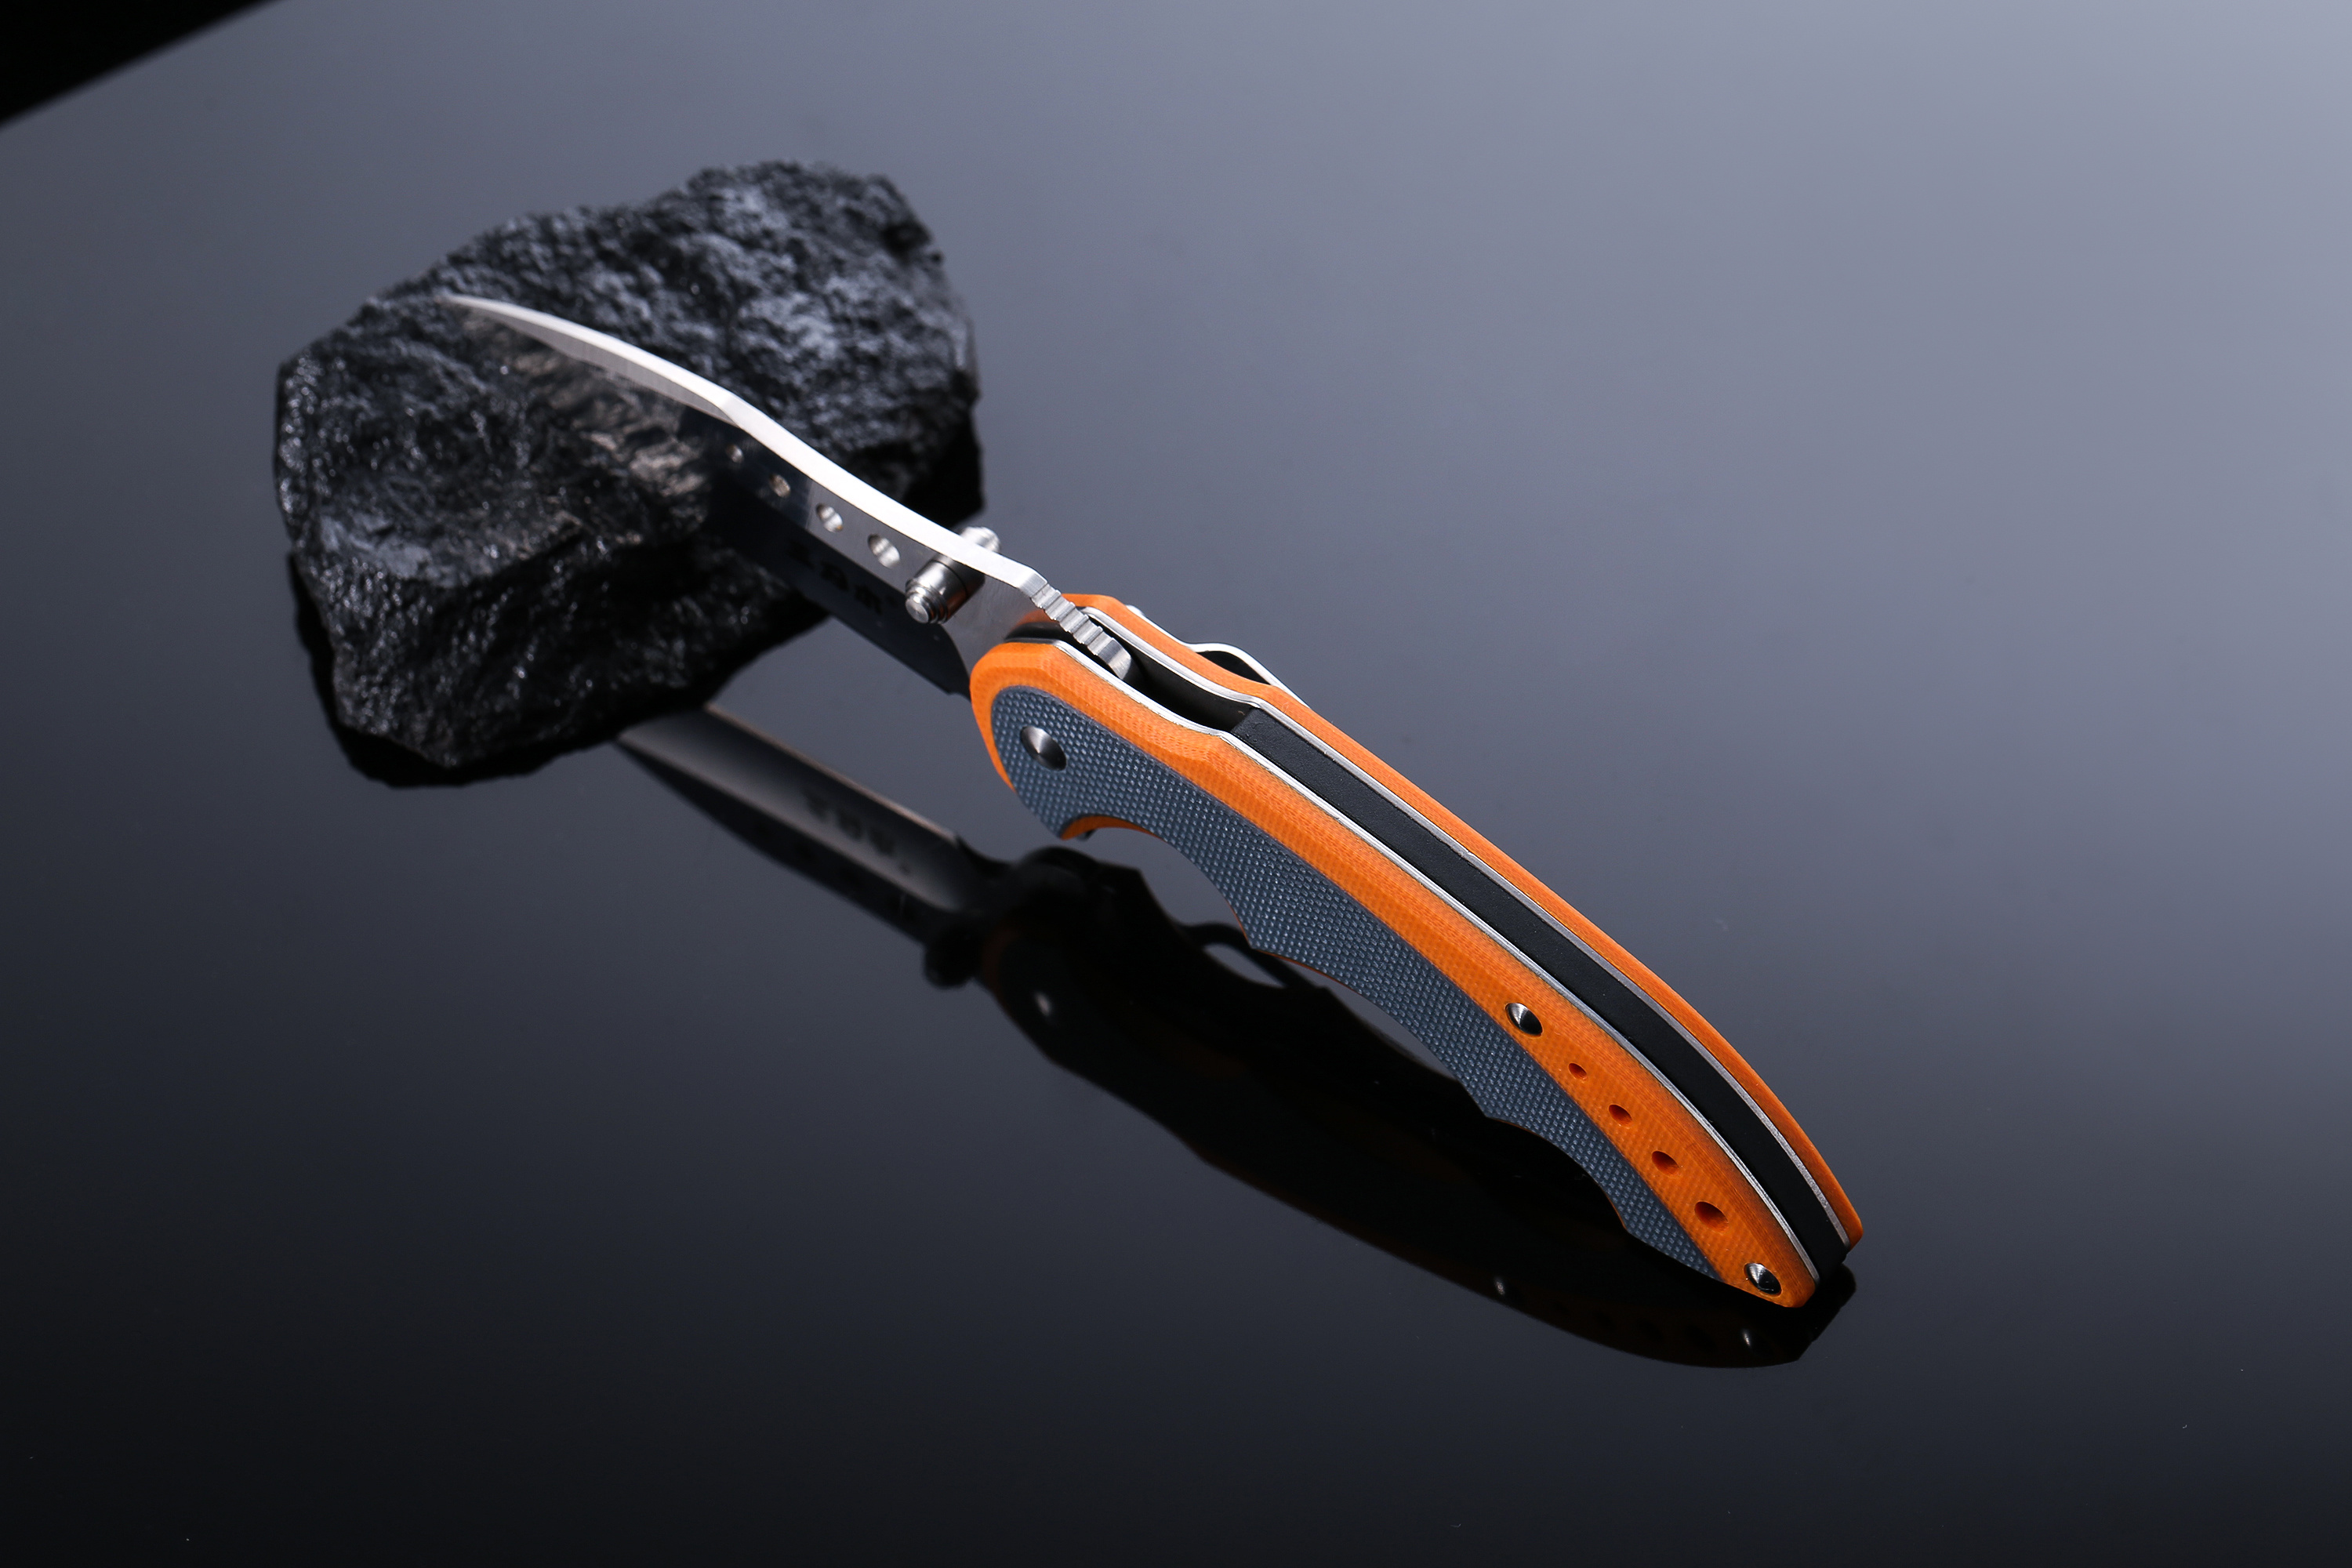knife: (404, 238, 1964, 1356)
